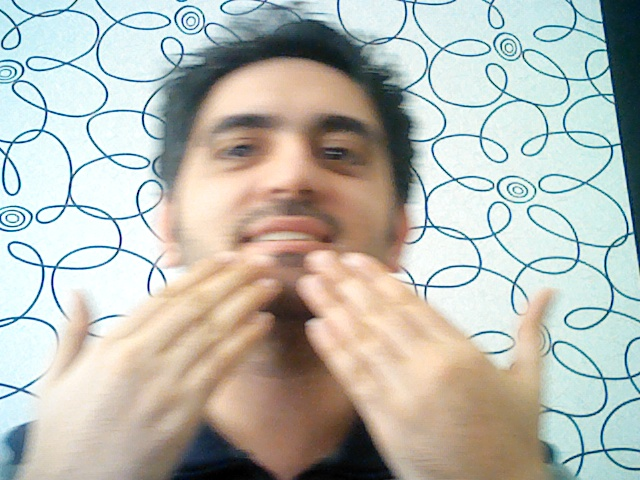ThankYou: (10, 250, 554, 480)
